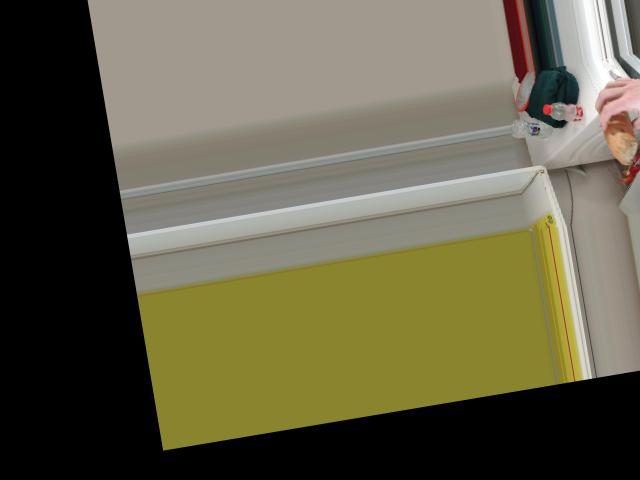sweet_potato: (601, 99, 640, 151)
